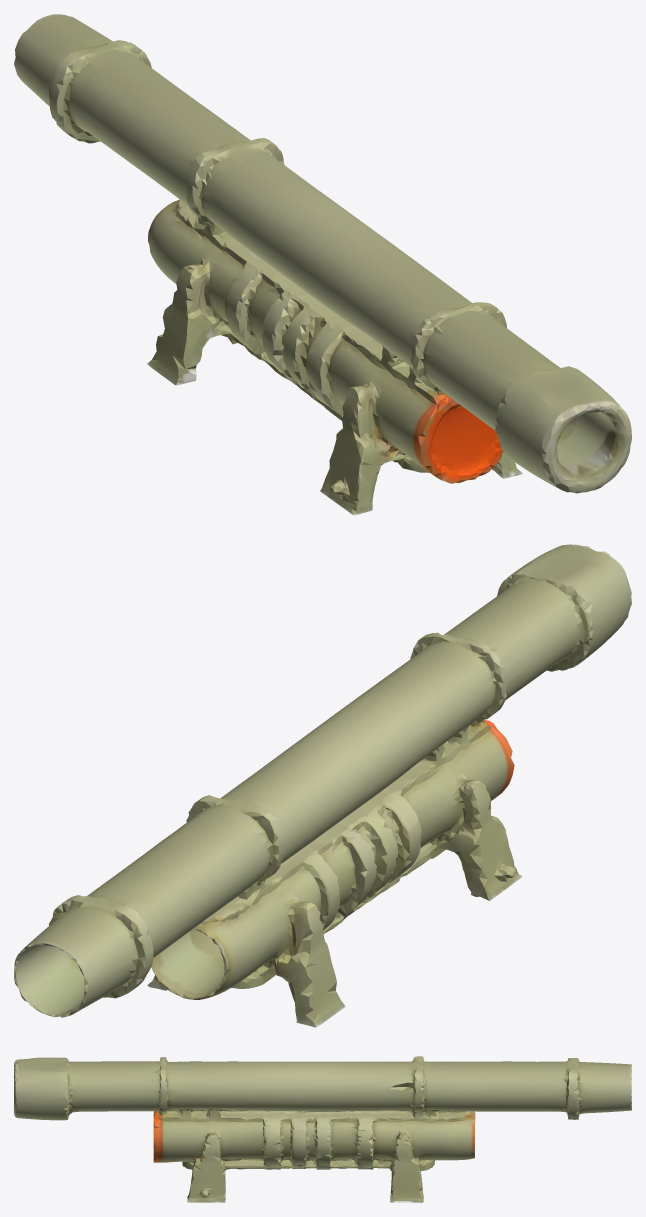
The model's file is bazooka.glb.
3 views of the same model, one above another, from view 1: azimuth 30°, elevation 25°; view 2: azimuth 150°, elevation 25°; view 3: azimuth 270°, elevation 25° (orthographic). The views are drawn at different scales.
Parts seen in each view (by area): view 1: bazooka; view 2: bazooka; view 3: bazooka.
Boxes of the visible parts, x1=… form: bazooka: x1=14, y1=14, x2=631, y2=515; bazooka: x1=14, y1=544, x2=631, y2=1027; bazooka: x1=14, y1=1056, x2=631, y2=1202.
Size of the model in its own units: 0.3719 by 0.3901 by 1.89.
1 material, 1 textured.
